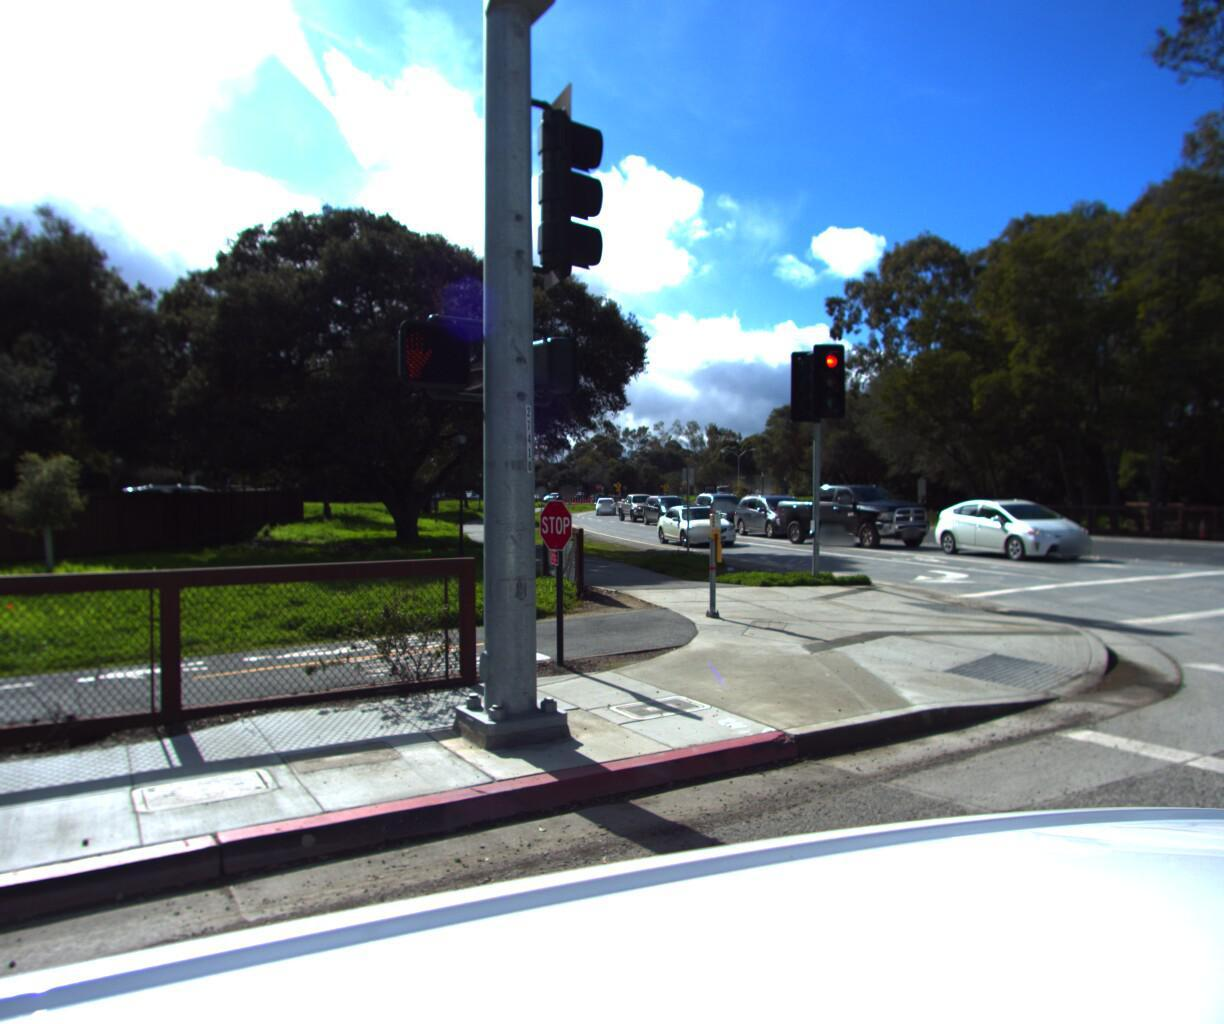car: (769, 478, 943, 547), (928, 495, 1107, 561), (728, 488, 831, 537), (650, 496, 744, 545), (687, 486, 763, 530), (638, 492, 699, 525), (612, 490, 665, 519), (593, 497, 617, 513)
